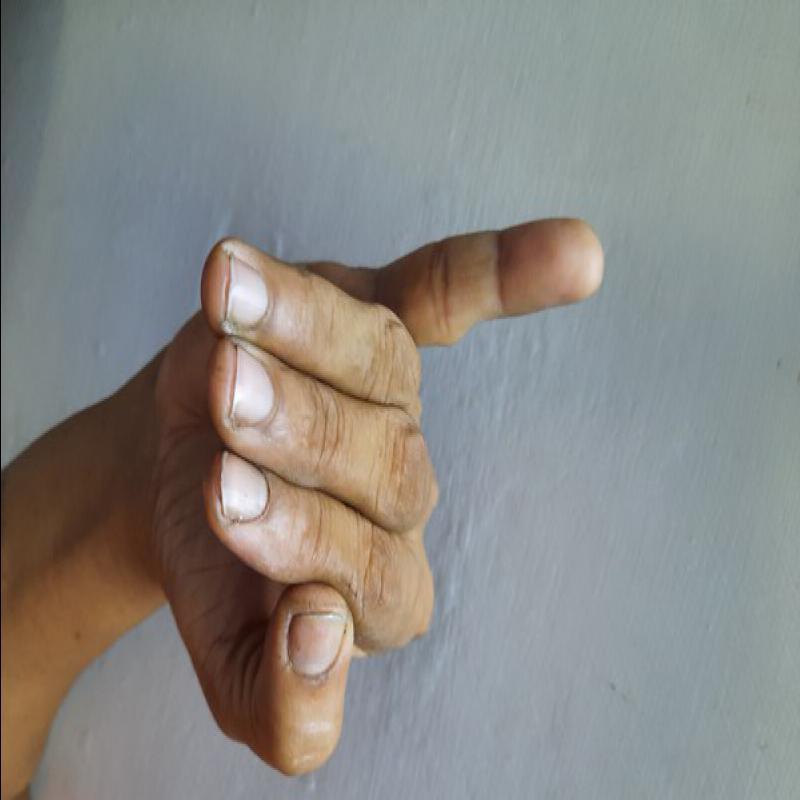Kartharee Mukham: (110, 176, 618, 787)
